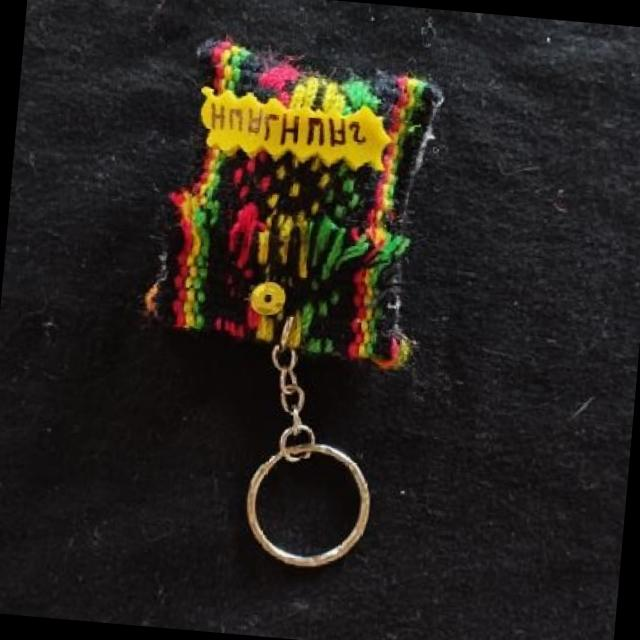Llavero: (137, 32, 446, 374)
